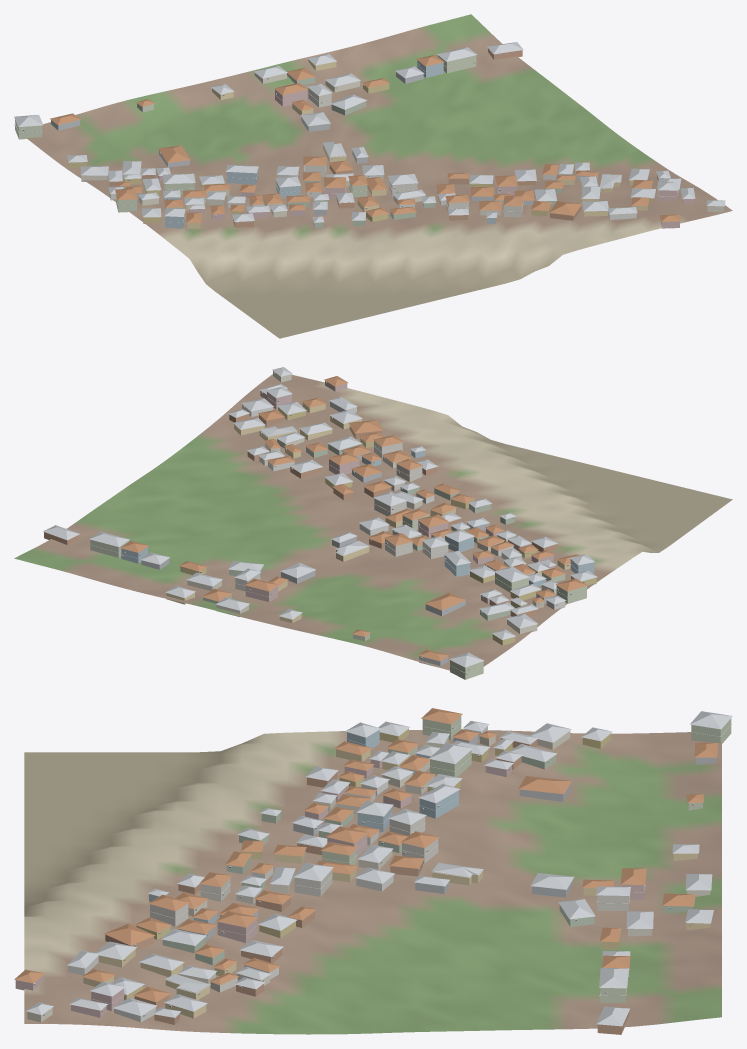
3 views of the same model, one above another, from view 1: azimuth 30°, elevation 25°; view 2: azimuth 150°, elevation 25°; view 3: azimuth 270°, elevation 25° (orthographic). The views are drawn at different scales.
Parts seen in each view (by area): view 1: Terrain-col, Buildings-col, Details; view 2: Terrain-col, Buildings-col, Details; view 3: Terrain-col, Buildings-col, Details.
Part boxes in pixels (left/top/right/bottom): Terrain-col: left=27, top=14, right=732, bottom=338; Buildings-col: left=14, top=42, right=725, bottom=228; Details: left=14, top=54, right=677, bottom=224; Terrain-col: left=14, top=374, right=732, bottom=670; Buildings-col: left=43, top=367, right=597, bottom=679; Details: left=90, top=372, right=594, bottom=674; Terrain-col: left=24, top=730, right=721, bottom=1034; Buildings-col: left=14, top=708, right=732, bottom=1034; Details: left=33, top=722, right=731, bottom=1016.
Bounding box in the file's own units: 266 × 17.5 × 264.
